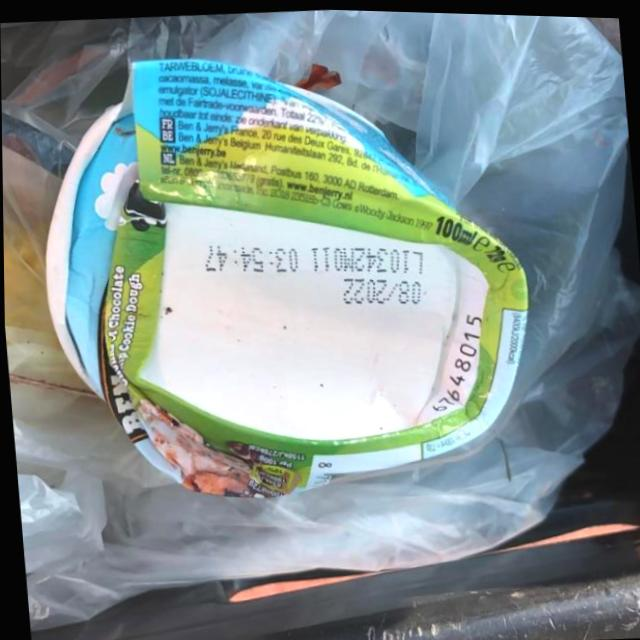Paper: (25, 27, 547, 520)
